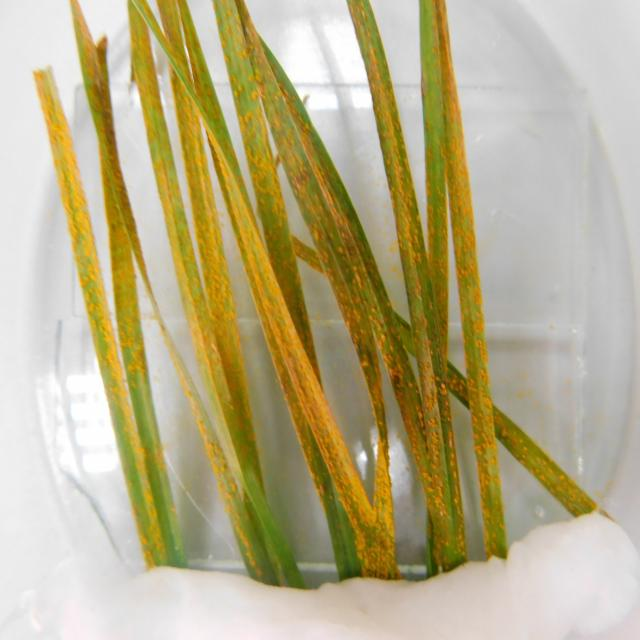wheat-yellowrust: (162, 0, 466, 581), (128, 2, 275, 560), (38, 35, 188, 571)
